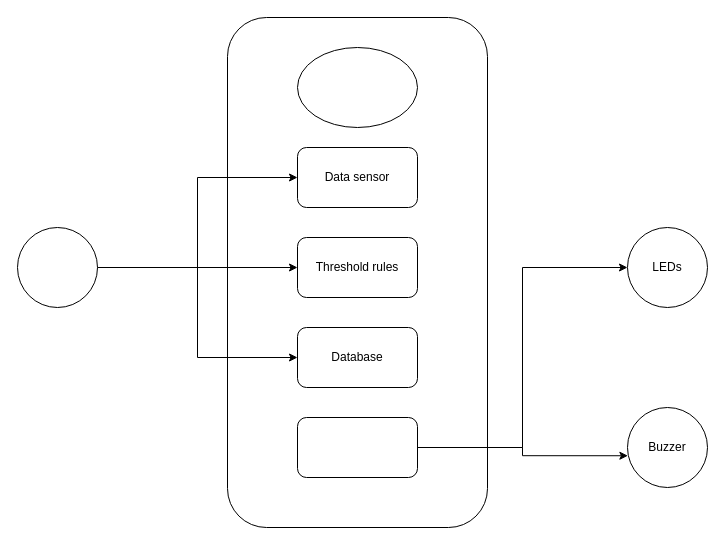
This 725x545 diagram has some shape labels left out. Here are the shapes that lost their labels. From the top down, the box of each, then its label:
(296, 46, 418, 128): Edge Server
(16, 226, 98, 308): Users
(296, 416, 418, 478): Actuators
